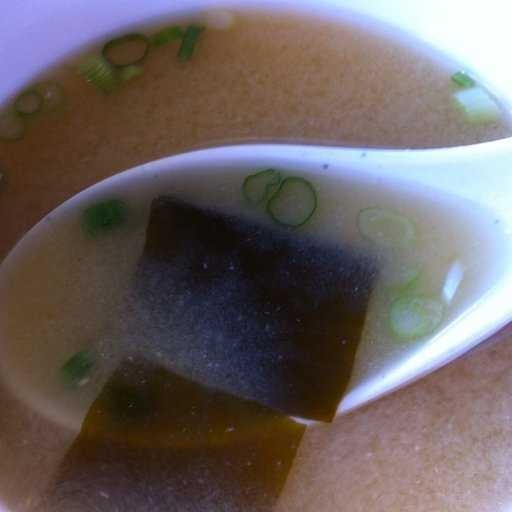soup: (7, 17, 511, 512)
